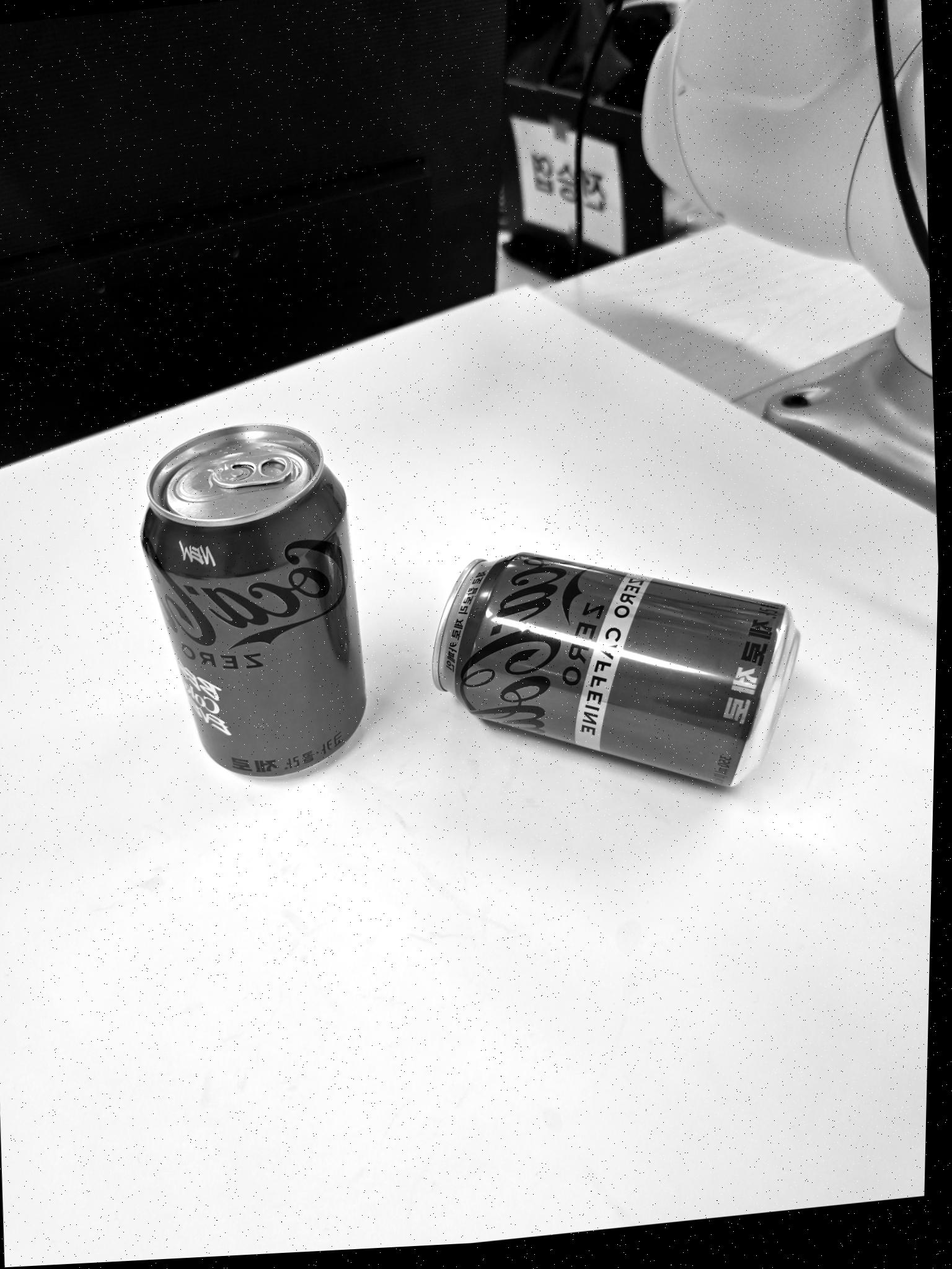can_coke_decaf: (432, 557, 802, 788)
can_coke_zero: (152, 426, 371, 783)
